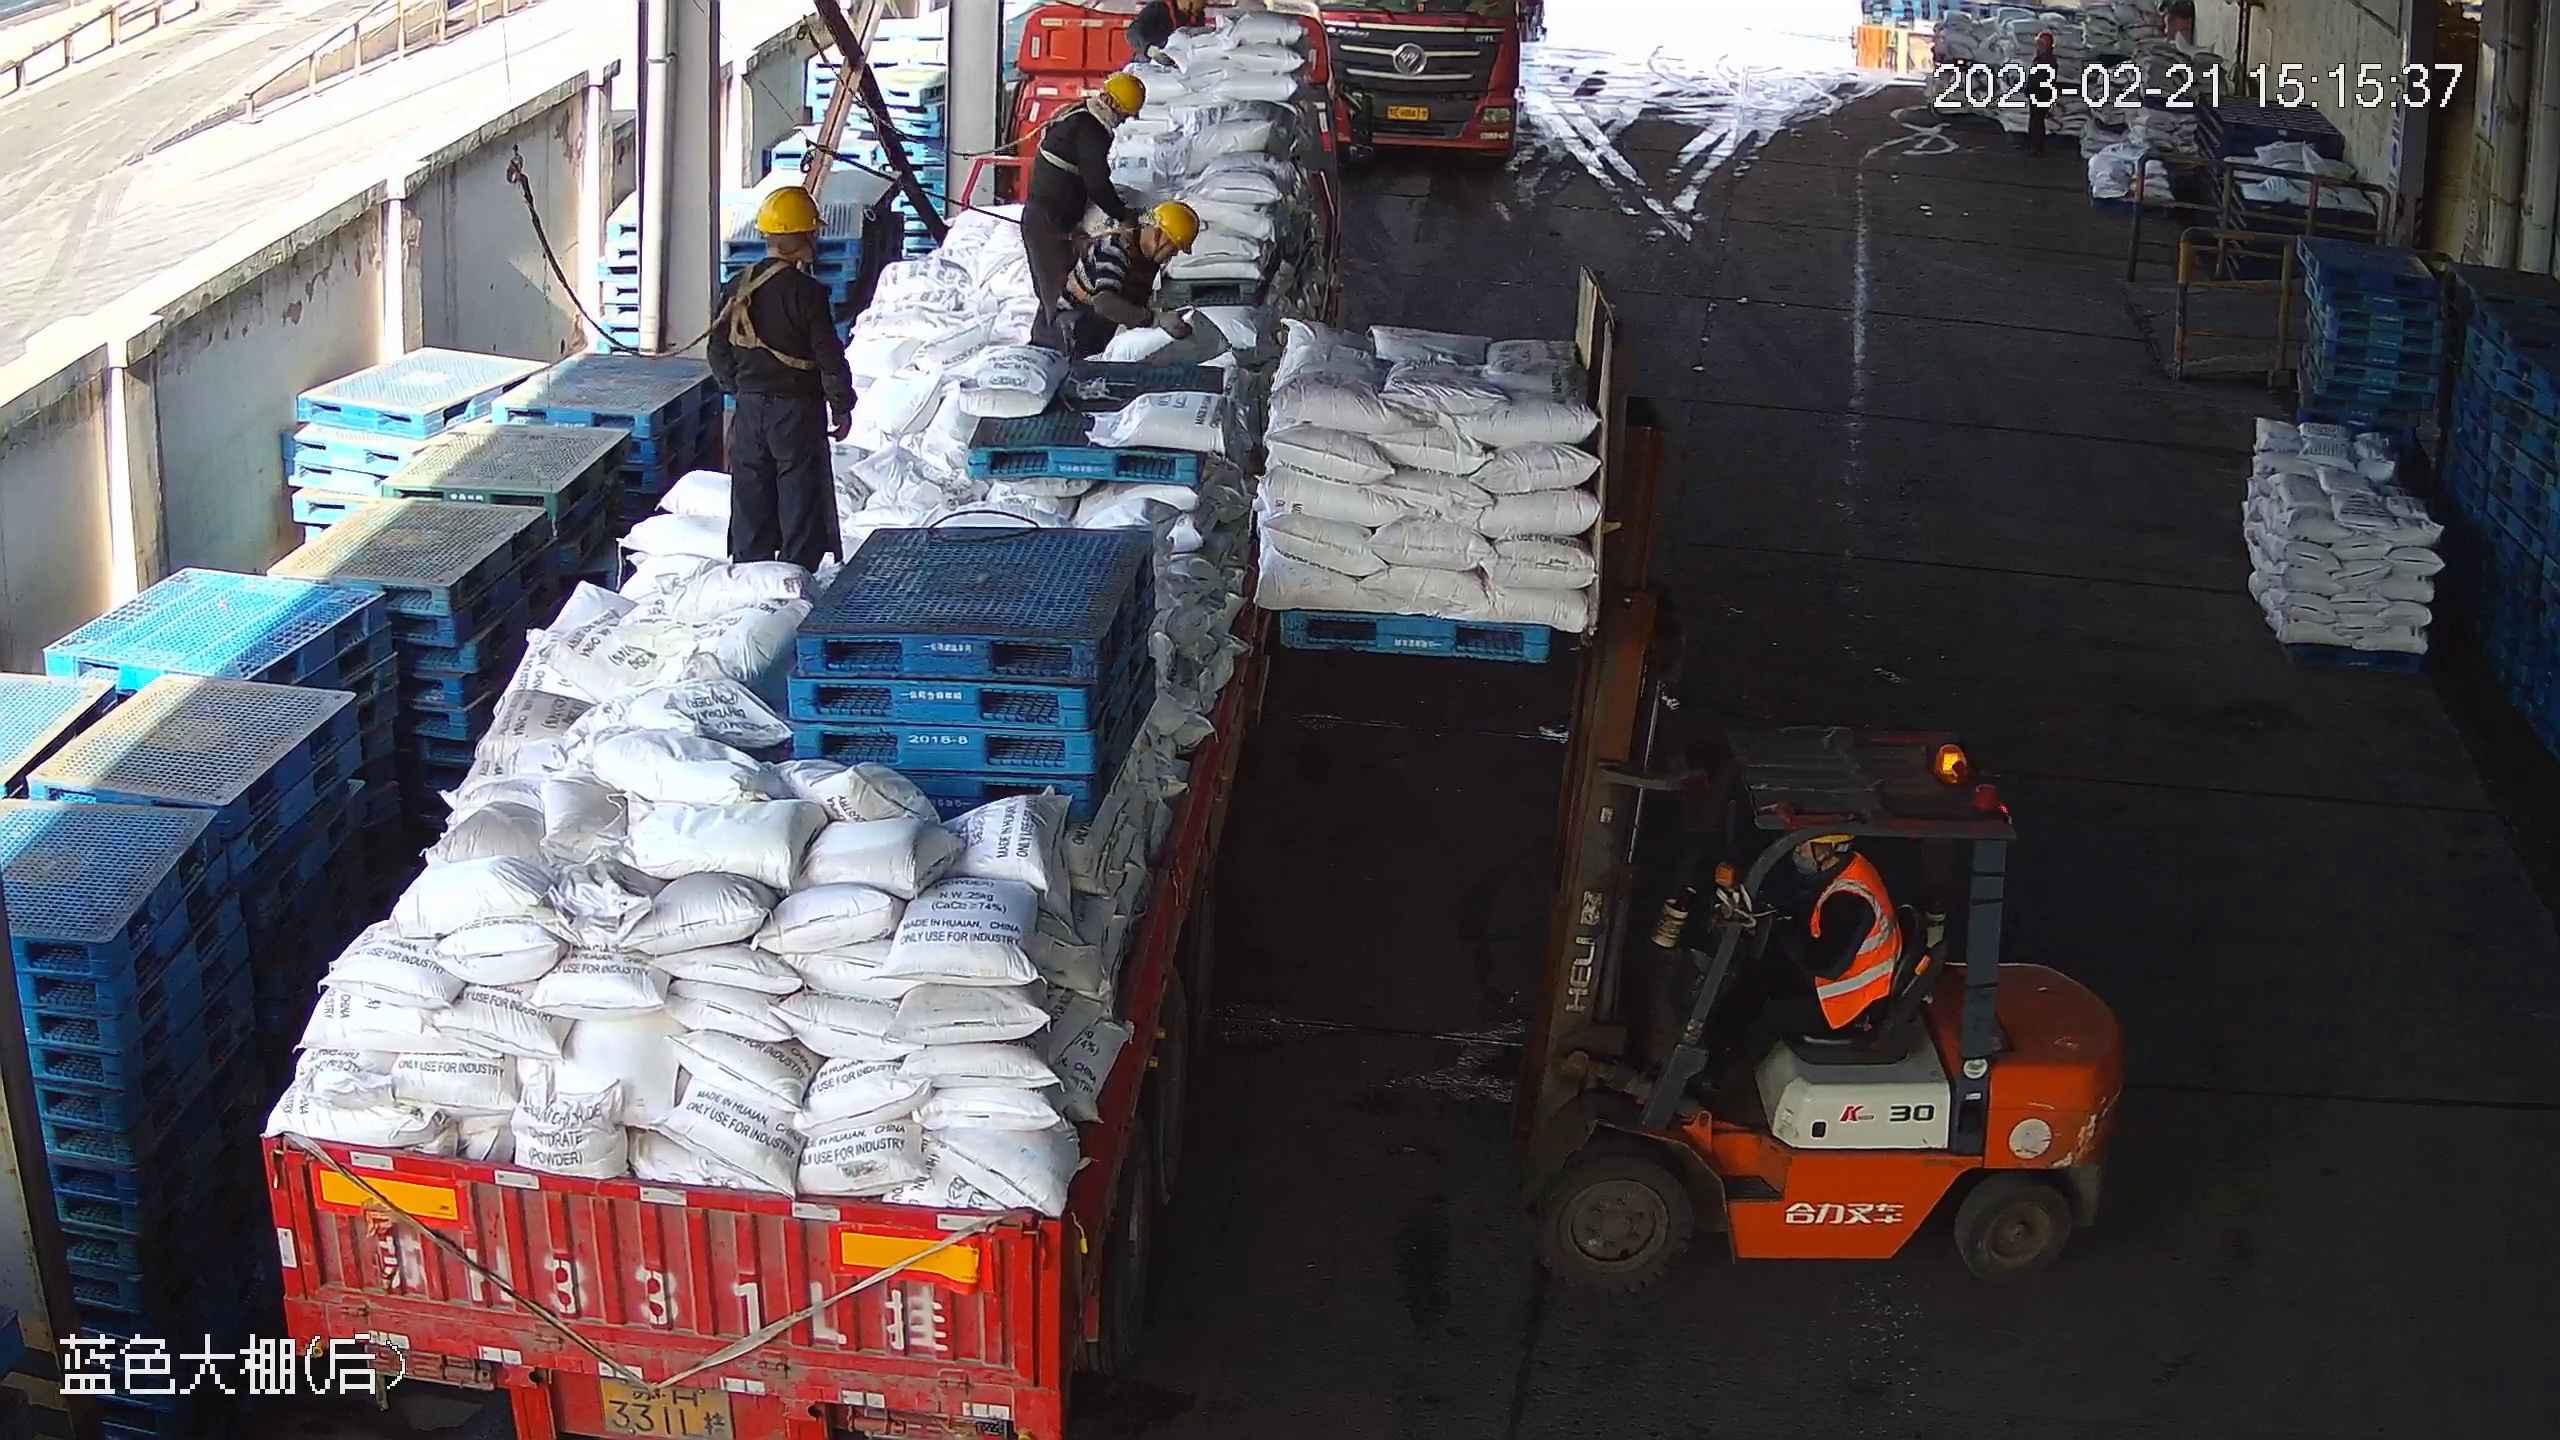belt: (722, 257, 811, 364), (1059, 231, 1135, 307), (1040, 99, 1122, 173)
head: (711, 188, 838, 321), (1027, 75, 1146, 166), (1099, 197, 1201, 294), (1794, 842, 1901, 932)
helmet: (755, 186, 831, 238), (1149, 197, 1199, 255), (1099, 70, 1155, 110)
people: (696, 181, 849, 571), (1736, 834, 1901, 1112), (1025, 70, 1148, 331)
truck: (260, 3, 1344, 1440), (1313, 1, 1527, 166)
